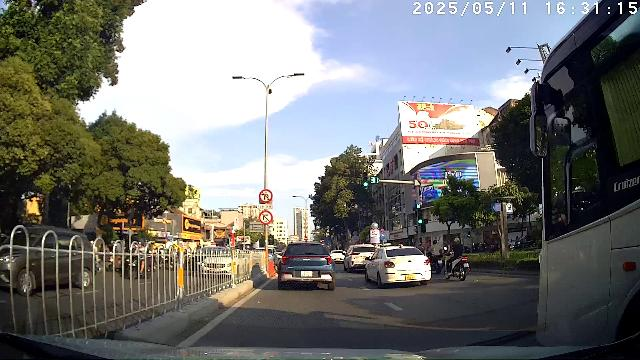103b-cam-oto-re-phai: (258, 209, 274, 224)
